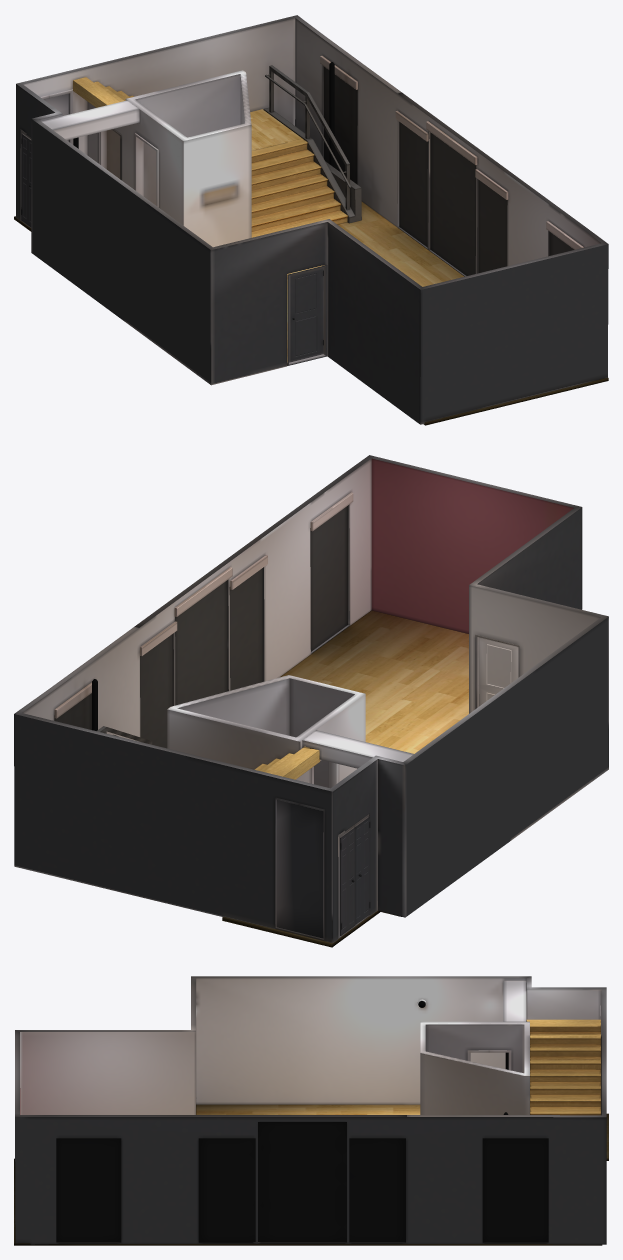
The model's file is Stage_v3_sc1_staging.glb.
3 views of the same model, one above another, from view 1: azimuth 30°, elevation 25°; view 2: azimuth 150°, elevation 25°; view 3: azimuth 270°, elevation 25° (orthographic). The views are drawn at different scales.
Parts seen in each view (by area): view 1: frl_apartment_wall_arch.001, frl_apartment_blinds, frl_apartment_stair, frl_apartment_floor, frl_apartment_door_01, frl_apartment_door_05, frl_apartment_door_part_03, frl_apartment_door_part_04, frl_apartment_pipe; view 2: frl_apartment_wall_arch.001, frl_apartment_blinds, frl_apartment_floor, frl_apartment_door_04, frl_apartment_door_01, frl_apartment_door_05, frl_apartment_door_06, frl_apartment_stair, frl_apartment_door_part_02; view 3: frl_apartment_wall_arch.001, frl_apartment_blinds, frl_apartment_stair, frl_apartment_floor.
Part boxes in pixels (x1,y1,x2,y2): frl_apartment_wall_arch.001: [16, 15, 608, 424]; frl_apartment_blinds: [320, 56, 583, 275]; frl_apartment_stair: [73, 65, 361, 237]; frl_apartment_floor: [14, 201, 608, 425]; frl_apartment_door_01: [289, 267, 323, 362]; frl_apartment_door_05: [21, 133, 31, 226]; frl_apartment_door_part_03: [287, 265, 327, 365]; frl_apartment_door_part_04: [135, 133, 158, 207]; frl_apartment_pipe: [73, 62, 334, 167]; frl_apartment_wall_arch.001: [14, 455, 608, 943]; frl_apartment_blinds: [54, 492, 353, 748]; frl_apartment_floor: [222, 610, 468, 947]; frl_apartment_door_04: [276, 800, 323, 938]; frl_apartment_door_01: [479, 637, 518, 706]; frl_apartment_door_05: [340, 827, 355, 935]; frl_apartment_door_06: [354, 816, 370, 924]; frl_apartment_stair: [97, 726, 320, 779]; frl_apartment_door_part_02: [275, 797, 324, 940]; frl_apartment_wall_arch.001: [15, 976, 606, 1244]; frl_apartment_blinds: [56, 1122, 548, 1242]; frl_apartment_stair: [526, 1019, 600, 1115]; frl_apartment_floor: [14, 1104, 608, 1245].
Size of the model in its own units: 7.26 by 3.14 by 12.93.
1 material, 1 textured.
